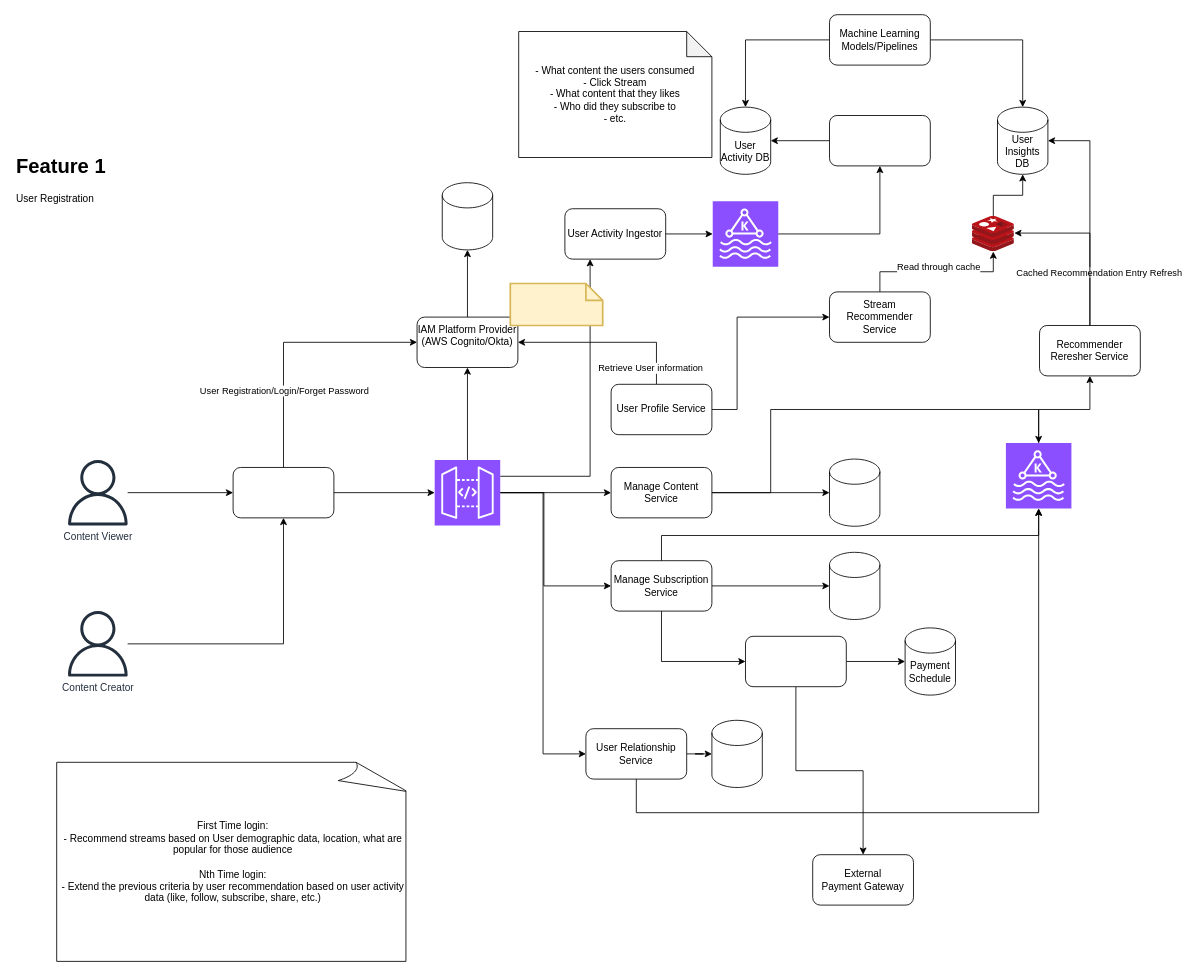
Image size: 1196x976. Some labels were removed from this diagram. The centre of each missing label's shape, as x and y in pixels:
"API Gateway" belongs at pixel 467 492.
"Configure user roles" belongs at pixel 556 304.
"Credentials DB" belongs at pixel 467 216.
"Frontend Appications/Web" belongs at pixel 283 492.
"Payment Service" belongs at pixel 795 661.
"User Activity Consumer" belongs at pixel 879 140.
"User Content DB" belongs at pixel 854 492.
"User Relationship DB" belongs at pixel 736 753.
"User Subscription DB" belongs at pixel 854 585.
